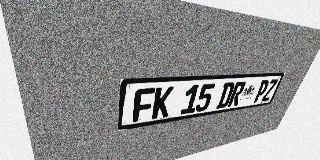1: (180, 84, 202, 115)
5: (195, 83, 216, 112)
D: (216, 82, 236, 109)
F: (132, 88, 155, 122)
K: (151, 86, 174, 119)
P: (252, 80, 270, 103)
R: (227, 81, 247, 107)
Z: (261, 79, 279, 102)
